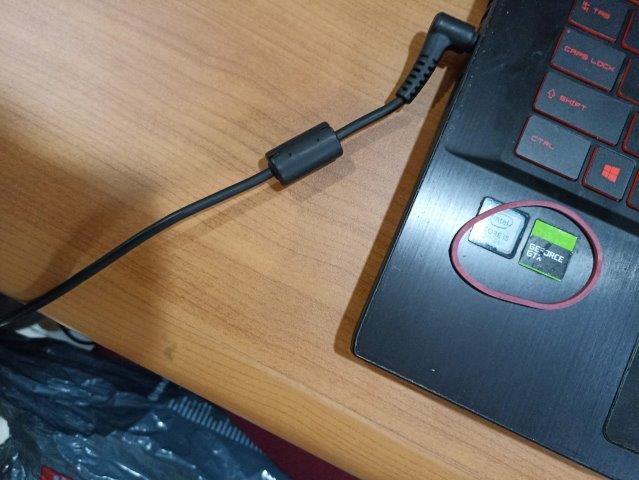karet: (450, 199, 604, 310)
